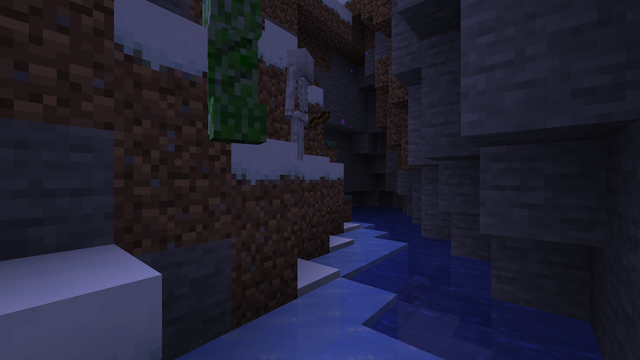creepers: (190, 0, 271, 148)
squelettes: (285, 44, 318, 160)
